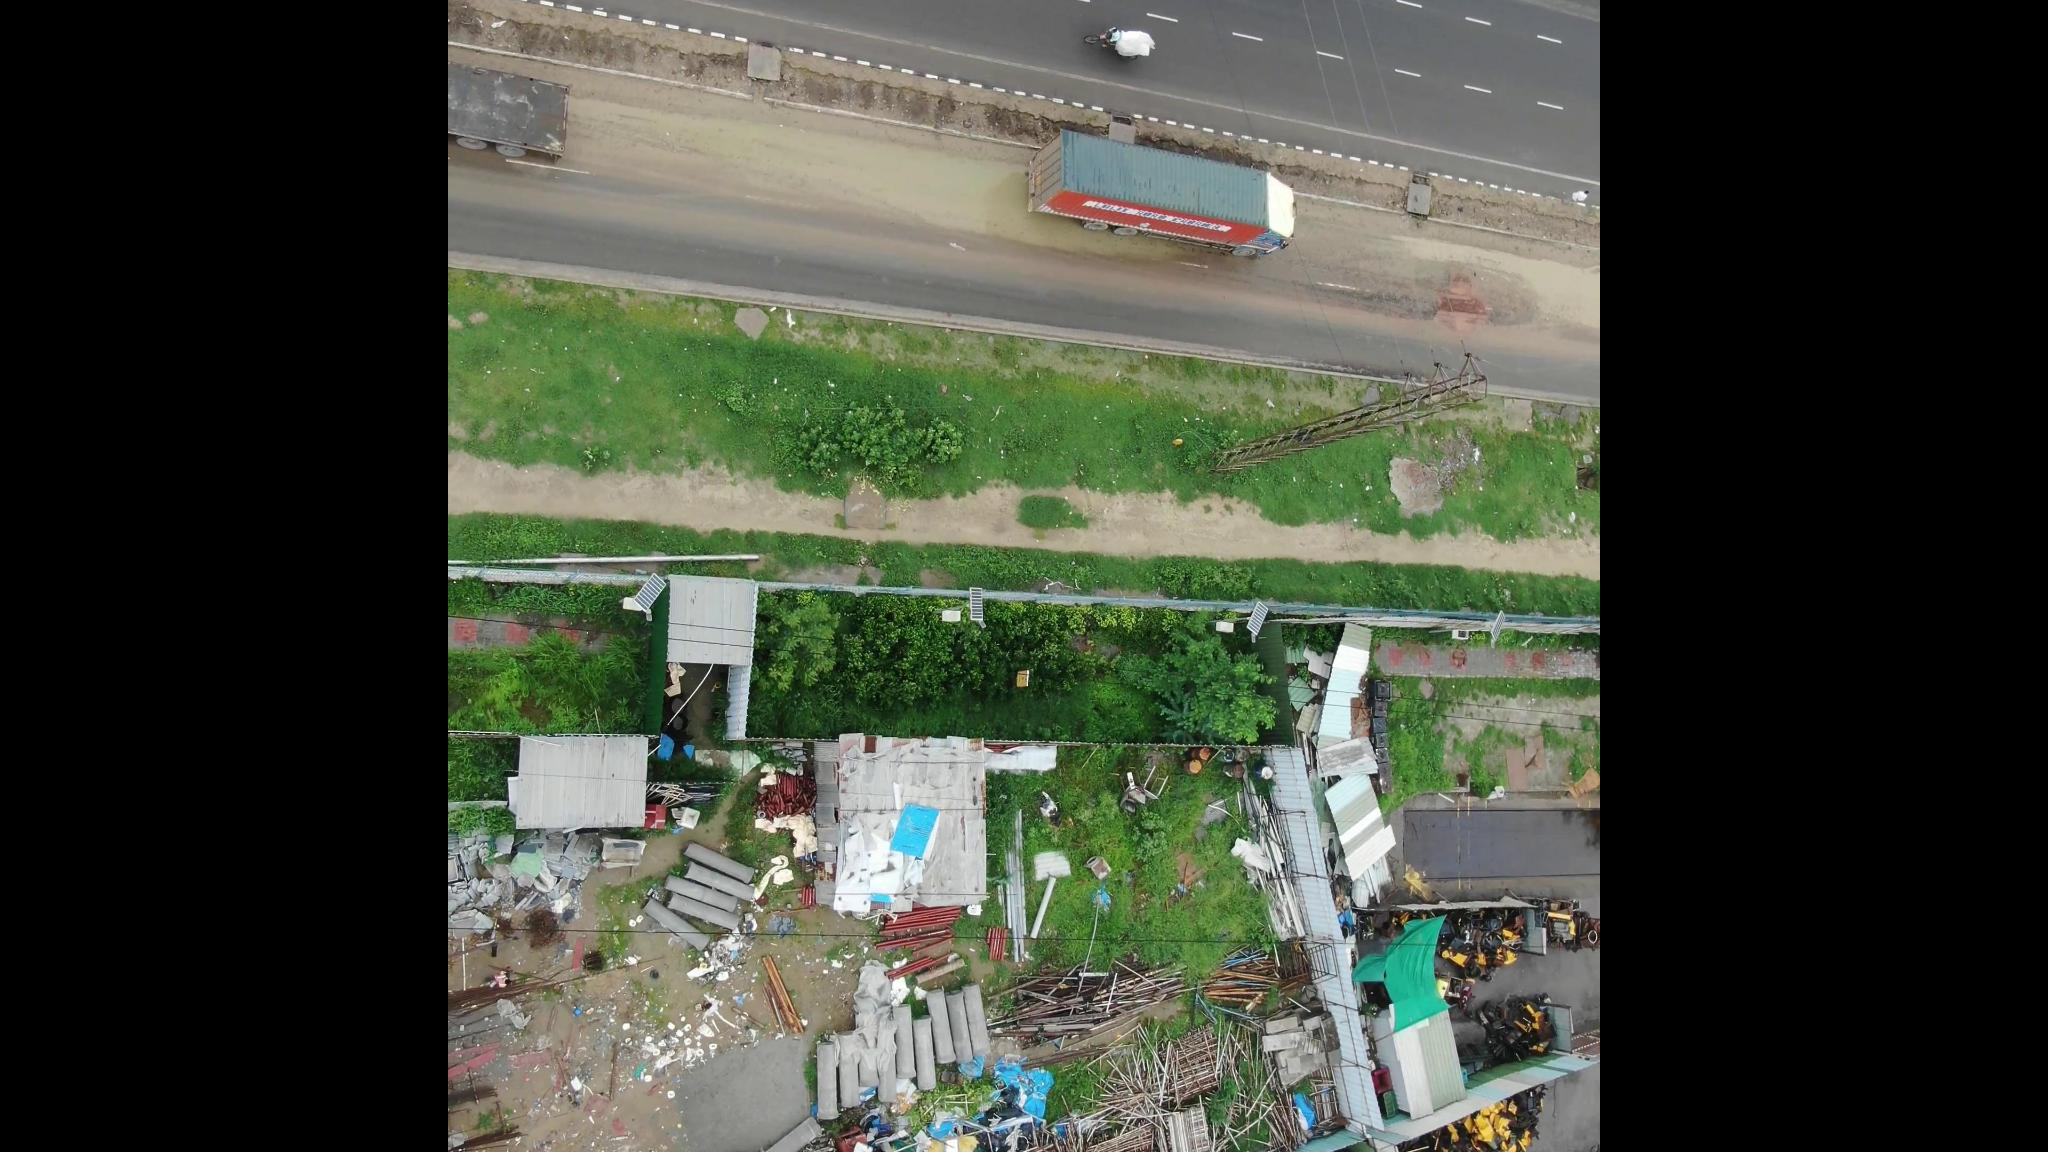Muddy_road: (595, 94, 1027, 231), (1312, 215, 1575, 338)
